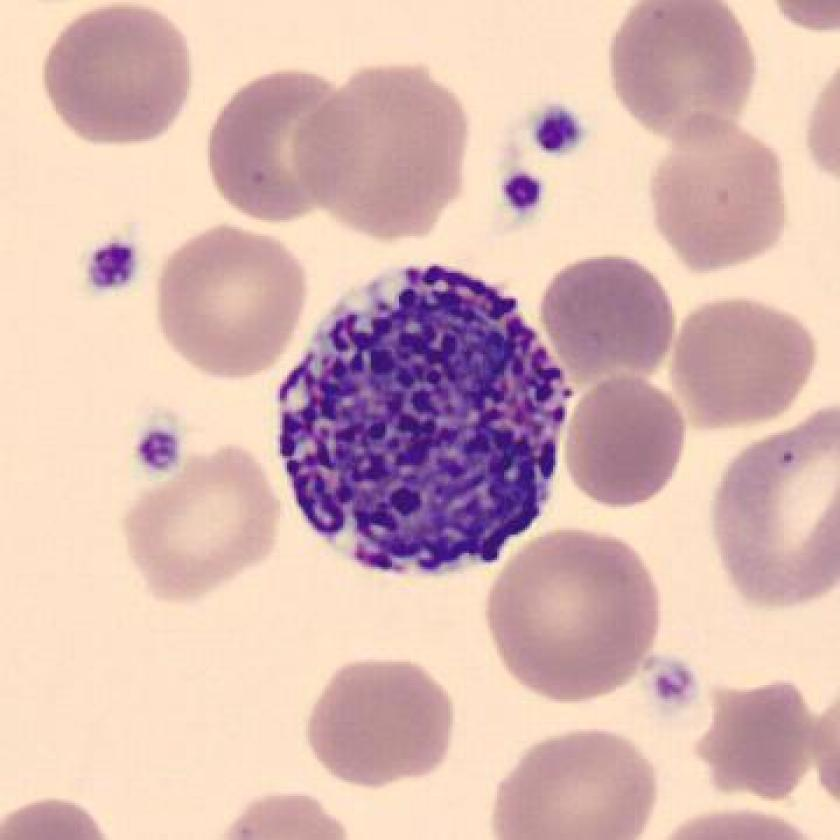basophil: (272, 258, 577, 591)
